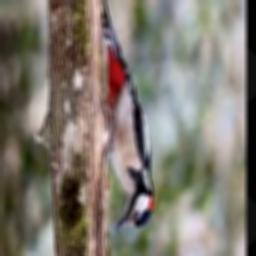Woodpecker: (101, 0, 153, 233)
